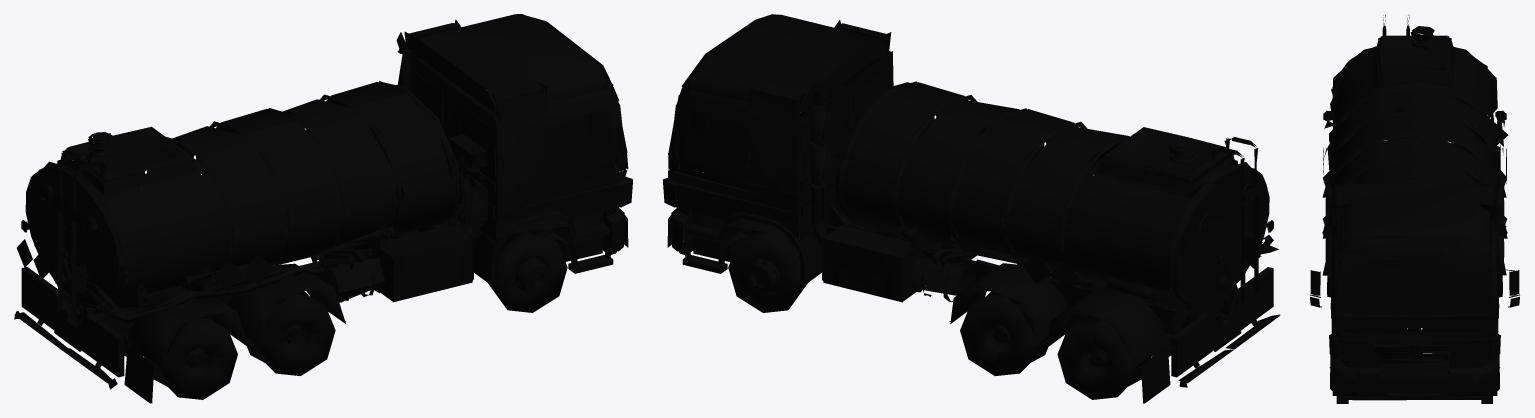
The model's file is v_tanker_lod1.glb.
3 views of the same model, side by side, from view 1: azimuth 30°, elevation 25°; view 2: azimuth 150°, elevation 25°; view 3: azimuth 270°, elevation 25° (orthographic). The views are drawn at different scales.
Visible parts, largest first — view 1: v_tanker_lod1; view 2: v_tanker_lod1; view 3: v_tanker_lod1.
Part boxes in pixels (x1,y1,x2,y2): v_tanker_lod1: (14, 14, 632, 403); v_tanker_lod1: (663, 14, 1280, 403); v_tanker_lod1: (1310, 14, 1519, 403).
Size of the model in its own units: 6.49 by 2.76 by 2.55.
Materials: 1 (1 with a texture image).
